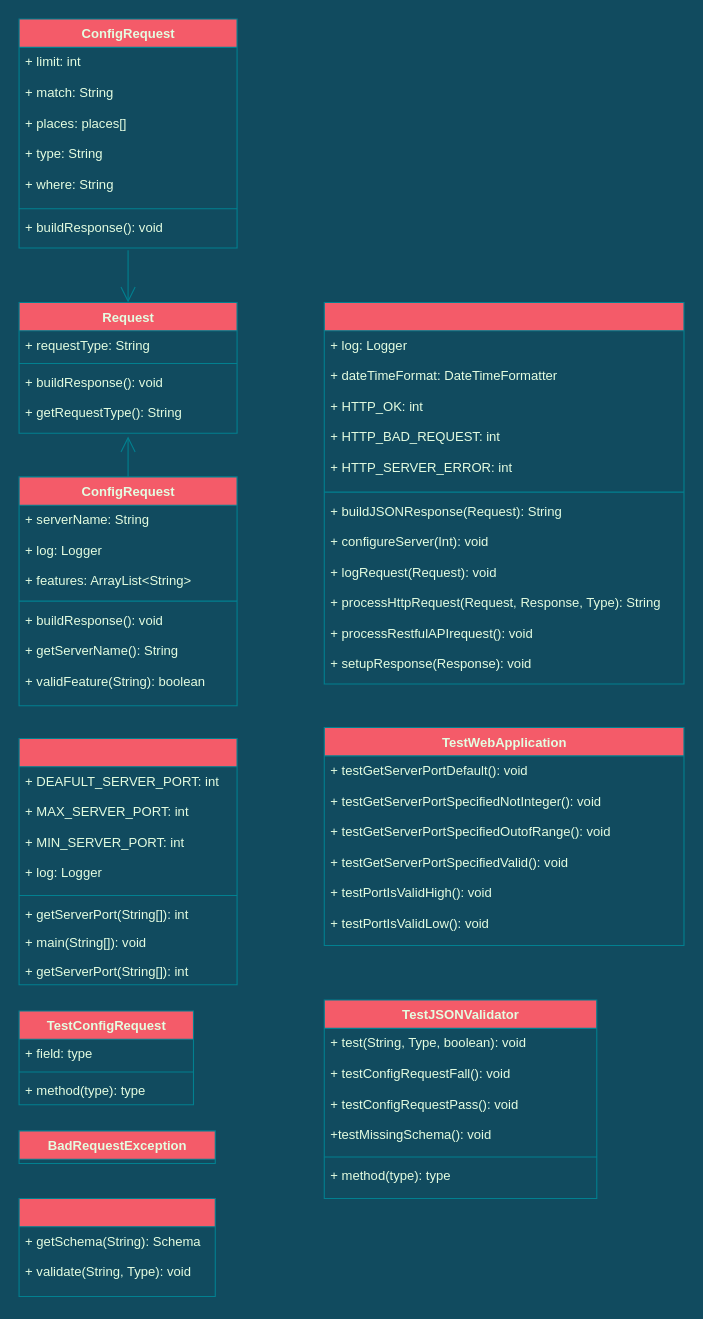
This 703x1319 diagram has some shape labels left out. Each missing label, with the box of its shape:
JSONValidator: (18, 1197, 215, 1297)
MicroServer: (323, 301, 684, 684)
WebApplication: (18, 737, 237, 985)
